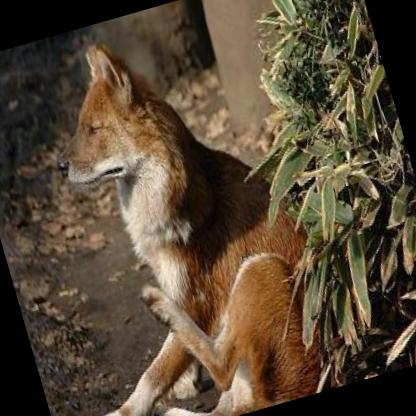dhole: (0, 0, 349, 416)
